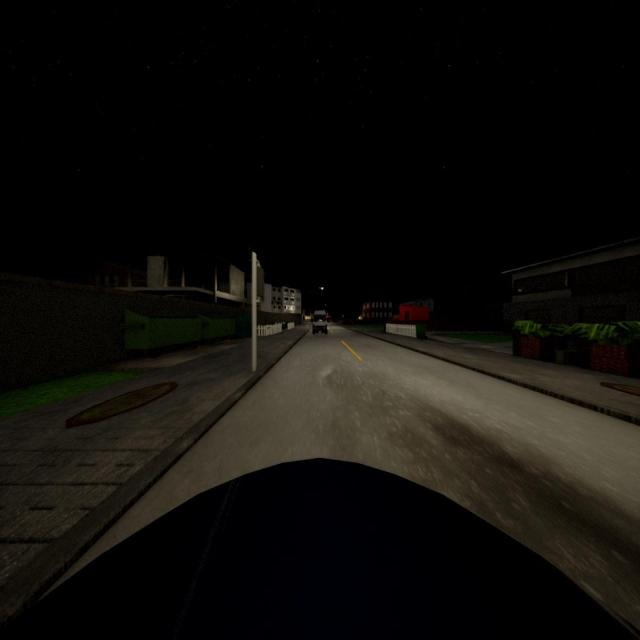Vehicle: (0, 455, 640, 640), (312, 310, 327, 333)
traffic_light: (256, 266, 264, 299)
